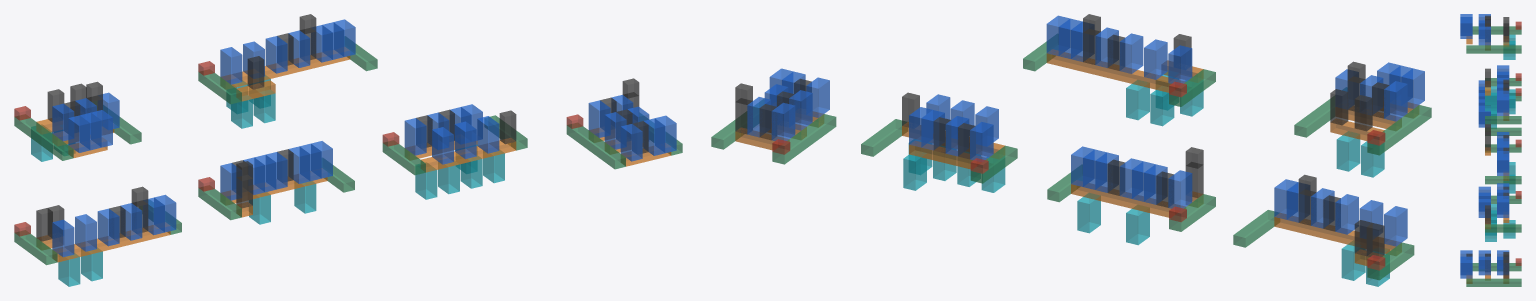
Rendered from narkomfin_grammar_catalogue.obj.
3 renders of one model, left to right at view 1: azimuth 30°, elevation 25°; view 2: azimuth 150°, elevation 25°; view 3: azimuth 270°, elevation 25°, orthographic. The views are drawn at different scales.
Parts seen in each view (by area): view 1: v0_corridor_1, v5_corridor_0, v2_corridor_1, v3_stair_W, v4_stair_W, v1_corridor_0, v2_stair_W, v0_stair_W, v5_stair_W, v1_stair_W, v2_K_1_3, v0_K_1_0 (+67 smaller); view 2: v5_corridor_0, v0_corridor_1, v1_corridor_0, v3_stair_W, v4_stair_W, v2_corridor_0, v2_stair_W, v1_stair_W, v5_stair_W, v5_K_0_4, v5_K_0_9, v0_stair_E (+78 smaller); view 3: v4_stair_E, v3_stair_E, v2_stair_E, v5_stair_E, v1_stair_E, v4_stair_W, v0_stair_E, v3_K_1_2, v4_K_1_4, v1_K_0_8, v2_K_0_5, v2_K_1_5 (+77 smaller).
Boxes of the visible parts, x1,y1,x2,y2 form: v0_corridor_1: (52, 222, 170, 262); v5_corridor_0: (221, 47, 350, 88); v2_corridor_1: (421, 138, 516, 172); v3_stair_W: (566, 123, 625, 169); v4_stair_W: (14, 114, 73, 160); v1_corridor_0: (221, 168, 327, 204); v2_stair_W: (382, 140, 425, 175); v0_stair_W: (14, 230, 57, 265); v5_stair_W: (198, 70, 241, 104); v1_stair_W: (198, 185, 241, 220); v2_K_1_3: (454, 121, 476, 159); v0_K_1_0: (52, 219, 74, 257); v5_corridor_0: (1046, 49, 1185, 92); v0_corridor_1: (1274, 213, 1401, 255); v1_corridor_0: (1071, 180, 1185, 217); v3_stair_W: (772, 114, 836, 164); v4_stair_W: (1367, 105, 1431, 155); v2_corridor_0: (909, 141, 987, 169); v2_stair_W: (970, 145, 1017, 183); v1_stair_W: (1169, 194, 1215, 231); v5_stair_W: (1169, 69, 1215, 106); v5_K_0_4: (1119, 33, 1143, 73); v5_K_0_9: (1058, 18, 1082, 58); v0_stair_E: (1233, 210, 1279, 247); v4_stair_E: (1466, 45, 1521, 53); v3_stair_E: (1466, 278, 1521, 286); v2_stair_E: (1485, 224, 1521, 232); v5_stair_E: (1485, 116, 1521, 124); v1_stair_E: (1485, 176, 1521, 184); v4_stair_W: (1472, 26, 1521, 34); v0_stair_E: (1485, 127, 1521, 135); v3_K_1_2: (1478, 256, 1490, 275); v4_K_1_4: (1478, 26, 1490, 45); v1_K_0_8: (1497, 157, 1509, 175); v2_K_0_5: (1497, 199, 1509, 217); v2_K_1_5: (1478, 199, 1490, 217).
Bounding box in the file's own units: 201 × 59.7 × 30.
